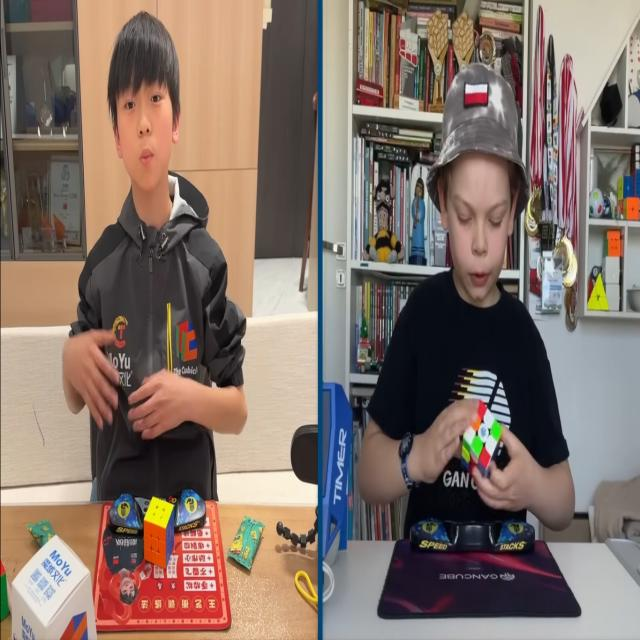Cubo-No-resuelto: (461, 400, 503, 475)
Cubo-Resuelto: (144, 496, 175, 567)
